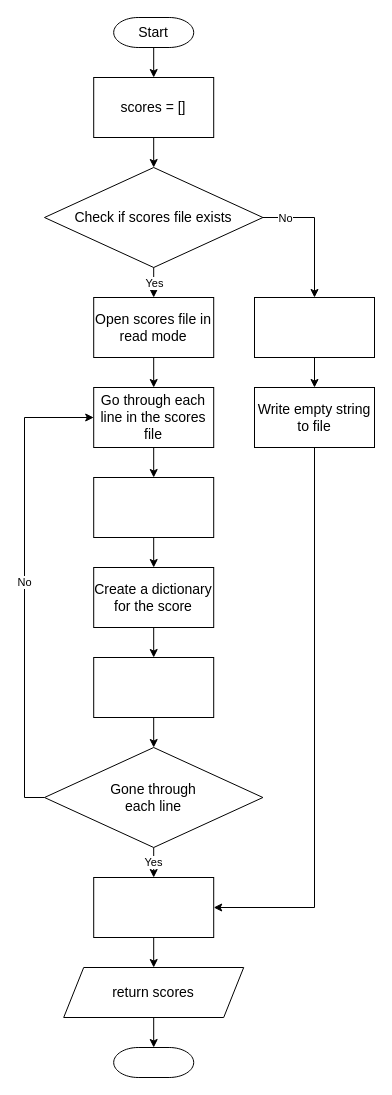
The diagram is 392 pixels wide and 1095 high, and some of its shapes have lost their labels. Here are the shapes that lost their labels. From the top down, the centre of each, then its label:
point (314, 327): Open scores file in append mode
point (153, 507): Split line into each stat value
point (153, 687): Append dictionary to scores array
point (153, 907): Close file
point (153, 1062): End
